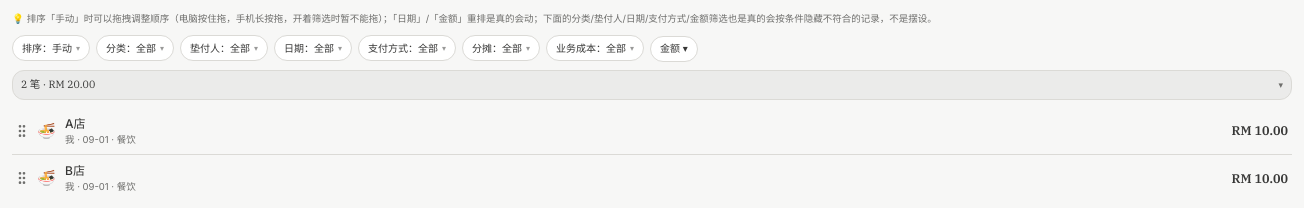
it: ExpenseList — 第七十二轮任务④ + 2026-09-26 命名纠正任务：「计分摊/不计分摊」筛选（判断依据改成 isOnlyMeSplit） › 切到「不计分摊」：只剩 isOnlyMeSplit=true 的记录（只分给了付款人自己）
Step 1. Click the button with aria-label "按是否计分摊筛选" → (501, 48), box [462, 35, 540, 61]
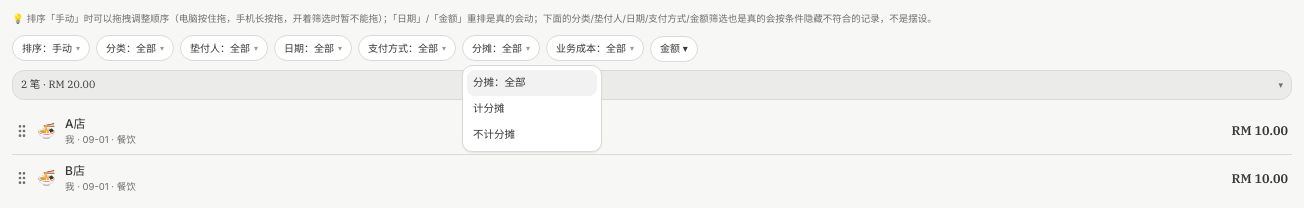
Step 2. Press the mouse on the option "不计分摊" → (494, 134), box [473, 128, 515, 140]
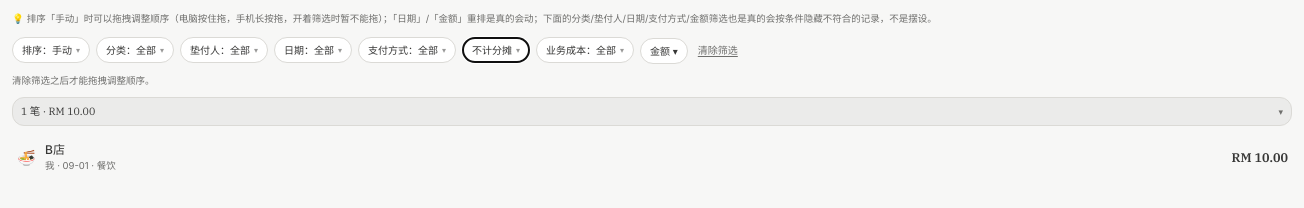
Expected: the text "B店" is shown, [45, 142, 65, 157]
Expected: the button "A店" is gone
